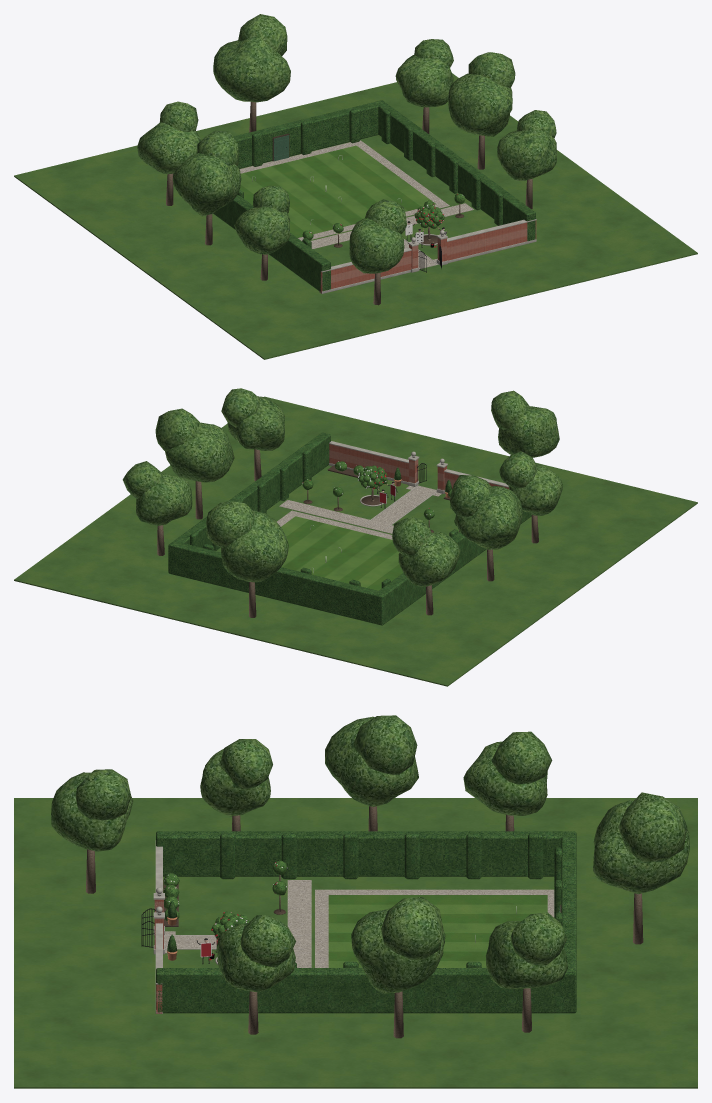
The model's file is queens_croquet_ground.glb.
The picture shows the model from 3 angles, top to bottom: view 1: azimuth 30°, elevation 25°; view 2: azimuth 150°, elevation 25°; view 3: azimuth 270°, elevation 25°; orthographic projection. The views are drawn at different scales.
Parts seen in each view (by area): view 1: MESH_Lawn, MESH_TreeLeaves, MESH_Hedge, MESH_CroquetLawn, MESH_Brick, MESH_Gravel, MESH_Bark, MESH_Stone, RoseTree_RoseLeaves; view 2: MESH_Lawn, MESH_TreeLeaves, MESH_Hedge, MESH_CroquetLawn, MESH_Gravel, MESH_Brick, MESH_Bark, MESH_Stone, RoseTree_RoseLeaves, MESH_RoseLeaves; view 3: MESH_Lawn, MESH_TreeLeaves, MESH_Hedge, MESH_CroquetLawn, MESH_Gravel, MESH_Bark, MESH_Stone, MESH_RoseLeaves.
Part boxes in pixels (x1=…): MESH_Lawn: x1=14, y1=73, x2=697, y2=359; MESH_TreeLeaves: x1=137, y1=14, x2=556, y2=273; MESH_Hedge: x1=173, y1=100, x2=535, y2=291; MESH_CroquetLawn: x1=240, y1=145, x2=435, y2=237; MESH_Brick: x1=320, y1=220, x2=536, y2=293; MESH_Gravel: x1=239, y1=140, x2=473, y2=269; MESH_Bark: x1=166, y1=102, x2=532, y2=305; MESH_Stone: x1=319, y1=219, x2=536, y2=293; RoseTree_RoseLeaves: x1=414, y1=205, x2=444, y2=228; MESH_Lawn: x1=14, y1=396, x2=697, y2=686; MESH_TreeLeaves: x1=122, y1=388, x2=562, y2=586; MESH_Hedge: x1=168, y1=432, x2=531, y2=625; MESH_CroquetLawn: x1=281, y1=516, x2=403, y2=590; MESH_Gravel: x1=277, y1=485, x2=441, y2=539; MESH_Brick: x1=329, y1=444, x2=508, y2=490; MESH_Bark: x1=157, y1=449, x2=538, y2=617; MESH_Stone: x1=328, y1=441, x2=508, y2=528; RoseTree_RoseLeaves: x1=357, y1=465, x2=387, y2=488; MESH_RoseLeaves: x1=302, y1=461, x2=456, y2=525; MESH_Lawn: x1=14, y1=798, x2=697, y2=1088; MESH_TreeLeaves: x1=51, y1=715, x2=689, y2=993; MESH_Hedge: x1=156, y1=831, x2=576, y2=1013; MESH_CroquetLawn: x1=328, y1=895, x2=547, y2=967; MESH_Gravel: x1=164, y1=880, x2=554, y2=967; MESH_Bark: x1=86, y1=806, x2=643, y2=1038; MESH_Stone: x1=153, y1=840, x2=302, y2=1013; MESH_RoseLeaves: x1=163, y1=860, x2=286, y2=921.
Size of the model in its own units: 40 by 10.3 by 40.
Materials: 42 (42 with a texture image).
